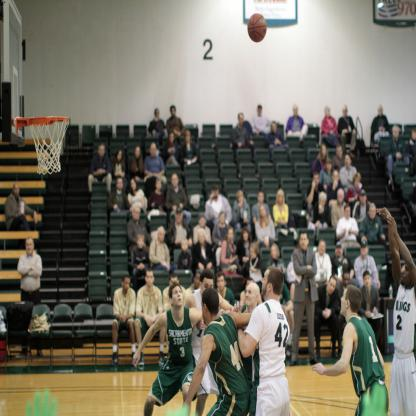Ball: (247, 14, 268, 42)
